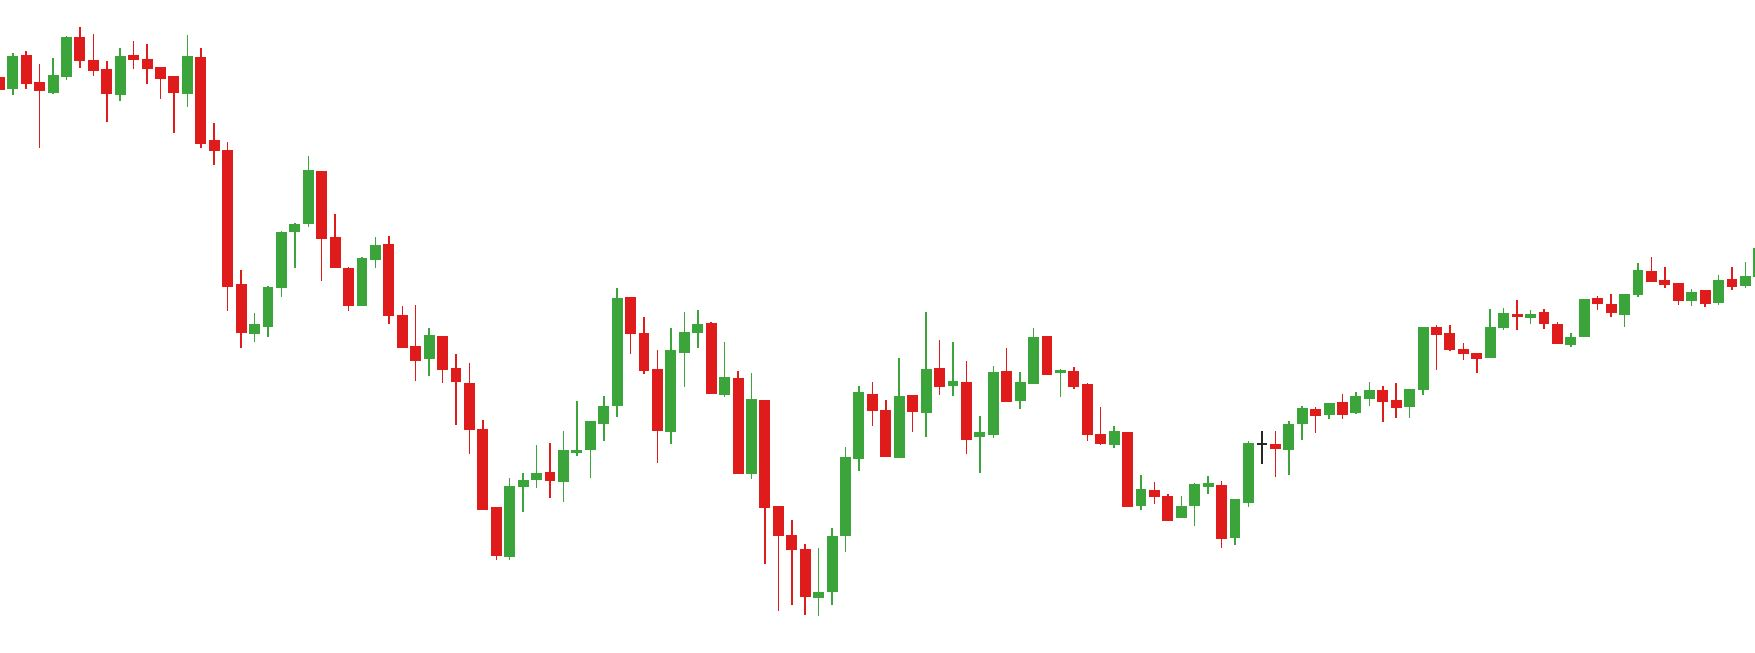buy: (492, 377, 839, 621)
sell: (933, 329, 1057, 420)
